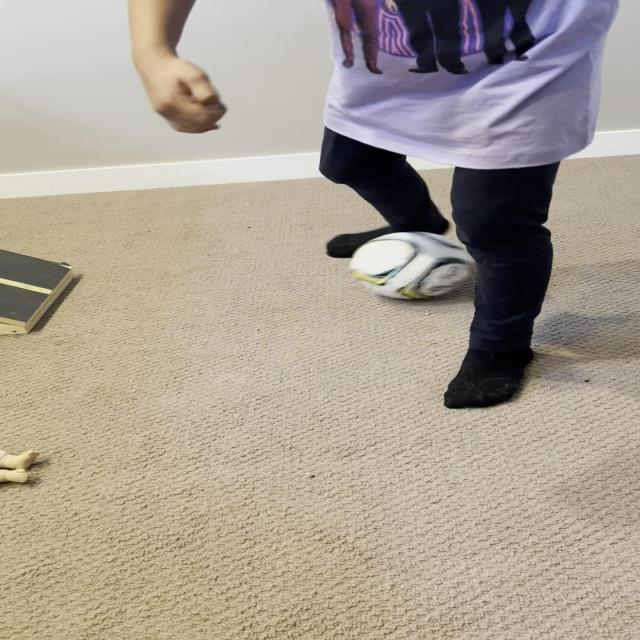Soccer Ball: (348, 230, 474, 299)
